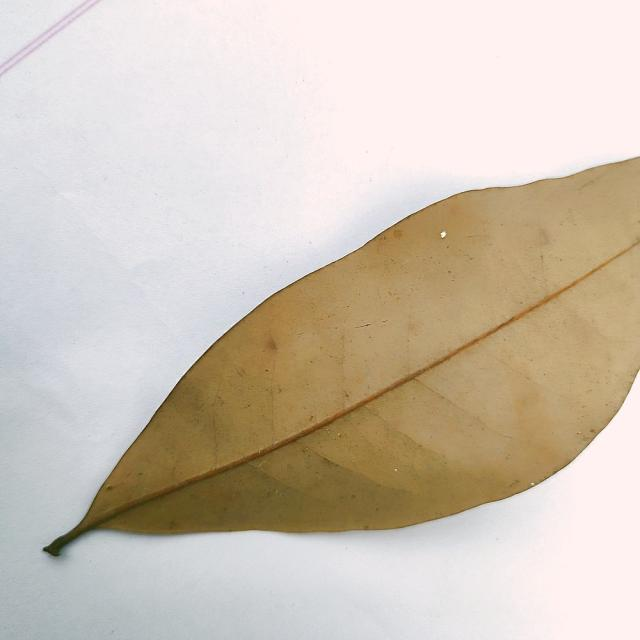Dry_Leaf-Lychee: (46, 156, 639, 556)
